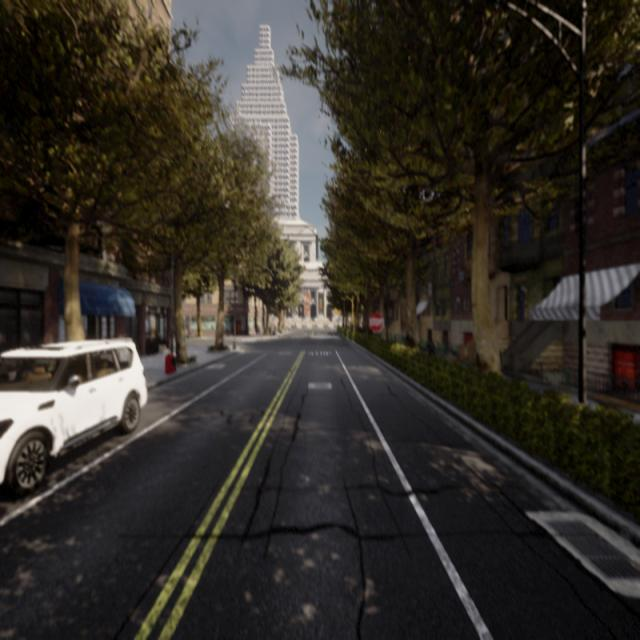stop sign: (366, 308, 386, 335)
